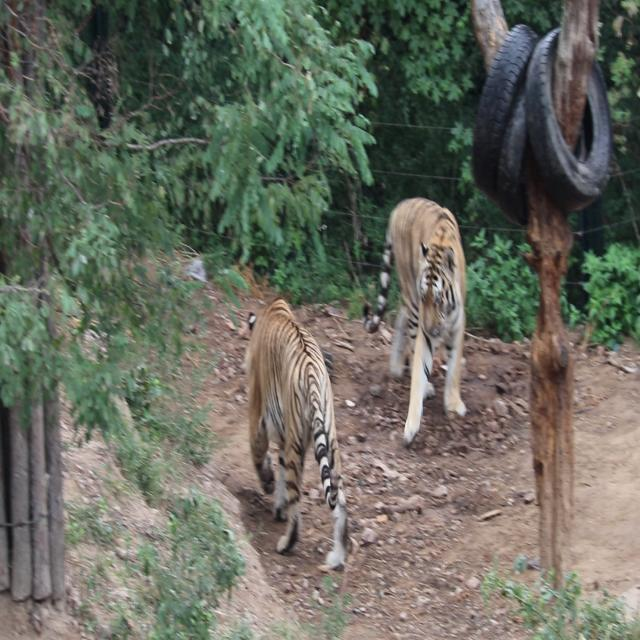Tiger: (226, 276, 360, 576), (365, 165, 475, 457)
